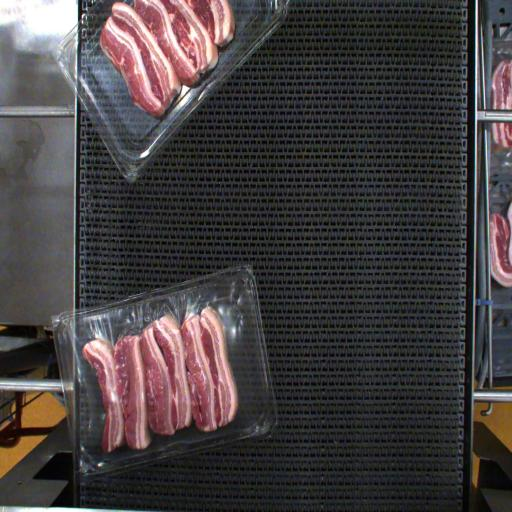unsealed: (46, 286, 266, 434)
